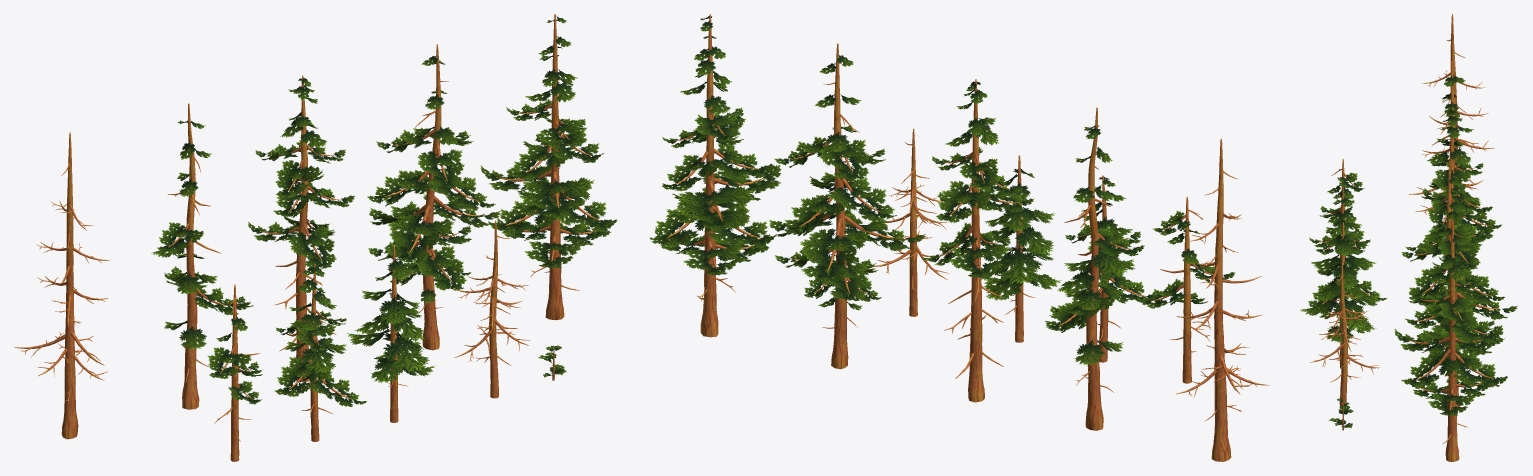
The model's file is stylized_pine_tree_pack.glb.
3 renders of one model, left to right at view 1: azimuth 30°, elevation 25°; view 2: azimuth 150°, elevation 25°; view 3: azimuth 270°, elevation 25°, orthographic. The views are drawn at different scales.
Visible parts, largest first — view 1: stylized_pine_var1, stylized_pine_var2, stylized_pine_var3, stylized_pine_var4, small_stylized_pine_var2, small_stylized_pine_var3, stylized_pine_var5, small_stylized_pine_var1, small_stylized_pine_var4; view 2: stylized_pine_var1, stylized_pine_var2, stylized_pine_var3, stylized_pine_var4, small_stylized_pine_var3, stylized_pine_var5, small_stylized_pine_var2, small_stylized_pine_var1, small_stylized_pine_var4; view 3: stylized_pine_var1, stylized_pine_var2, stylized_pine_var3, small_stylized_pine_var3, small_stylized_pine_var2, small_stylized_pine_var4, stylized_pine_var4, stylized_pine_var5, small_stylized_pine_var1, sapling_stylized_pine.
Boxes of the visible parts, x1,y1,x2,y2 form: stylized_pine_var1: (480, 14, 617, 320); stylized_pine_var2: (367, 44, 500, 350); stylized_pine_var3: (248, 75, 354, 381); stylized_pine_var4: (151, 103, 248, 409); small_stylized_pine_var2: (274, 264, 367, 441); small_stylized_pine_var3: (347, 245, 434, 422); stylized_pine_var5: (14, 132, 109, 439); small_stylized_pine_var1: (207, 284, 262, 461); small_stylized_pine_var4: (453, 220, 530, 398); stylized_pine_var1: (649, 14, 781, 337); stylized_pine_var2: (769, 43, 925, 369); stylized_pine_var3: (921, 79, 1033, 402); stylized_pine_var4: (1045, 107, 1144, 430); small_stylized_pine_var3: (970, 155, 1061, 342); stylized_pine_var5: (1176, 138, 1268, 461); small_stylized_pine_var2: (1064, 175, 1157, 362); small_stylized_pine_var1: (1138, 196, 1235, 383); small_stylized_pine_var4: (871, 128, 948, 316); stylized_pine_var1: (1394, 209, 1507, 461); stylized_pine_var2: (1401, 161, 1517, 408); stylized_pine_var3: (1405, 107, 1493, 355); small_stylized_pine_var3: (1300, 222, 1380, 368); small_stylized_pine_var2: (1308, 190, 1387, 325); small_stylized_pine_var4: (1310, 263, 1379, 409); stylized_pine_var4: (1428, 61, 1501, 301); stylized_pine_var5: (1408, 14, 1494, 254); small_stylized_pine_var1: (1315, 158, 1367, 257); sapling_stylized_pine: (1328, 398, 1353, 430).
Bounding box in the file's own units: 28.66 × 14.36 × 11.46.
Materials: 2 (2 with a texture image).
